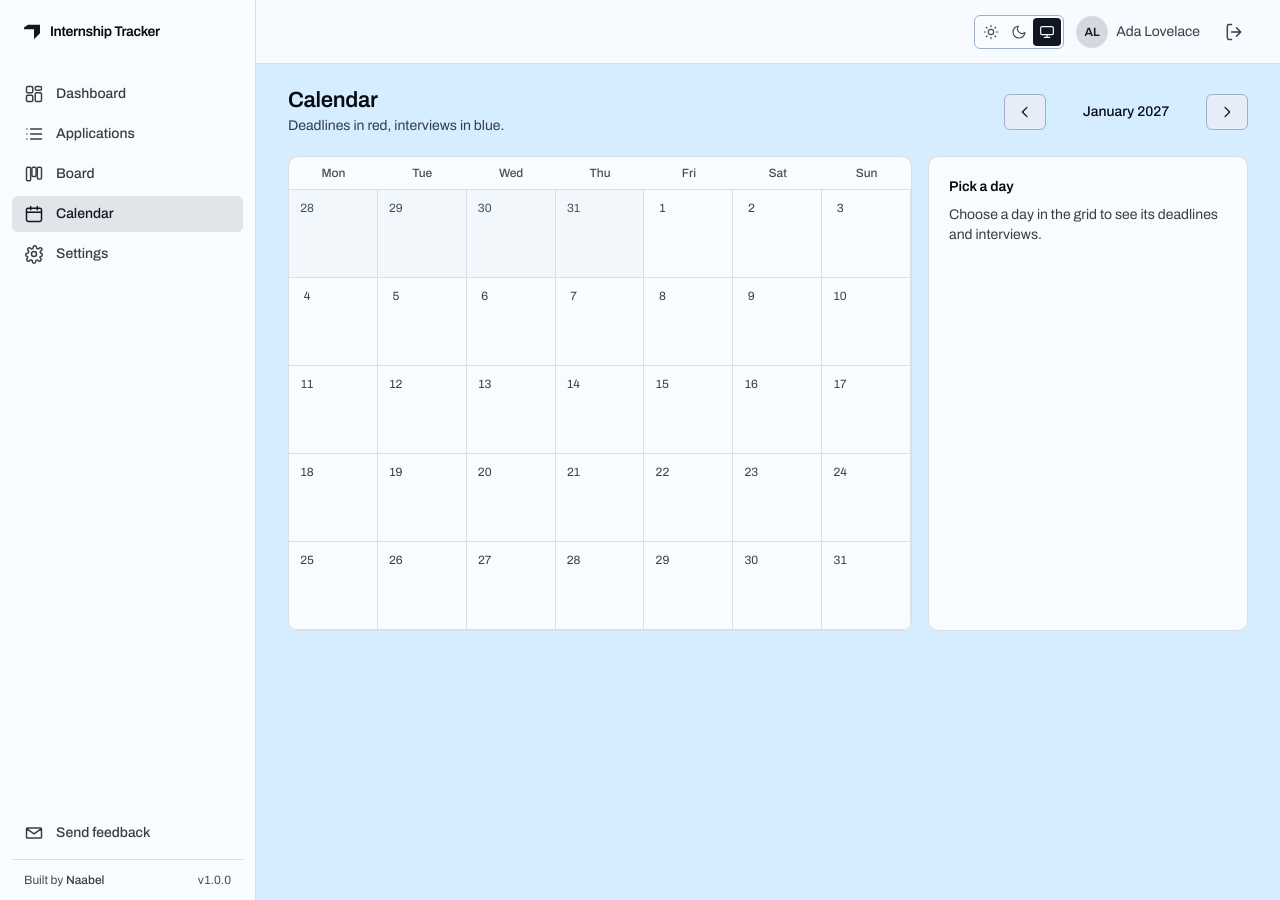
day panel heading › viewing 2027-01 and picking 28 December 2026 reads "Monday 28 December 2026"
The width and height of the screenshot is (1280, 900).
Click the 1st cell "28". click: (333, 234)
box: [289,190,378,278]
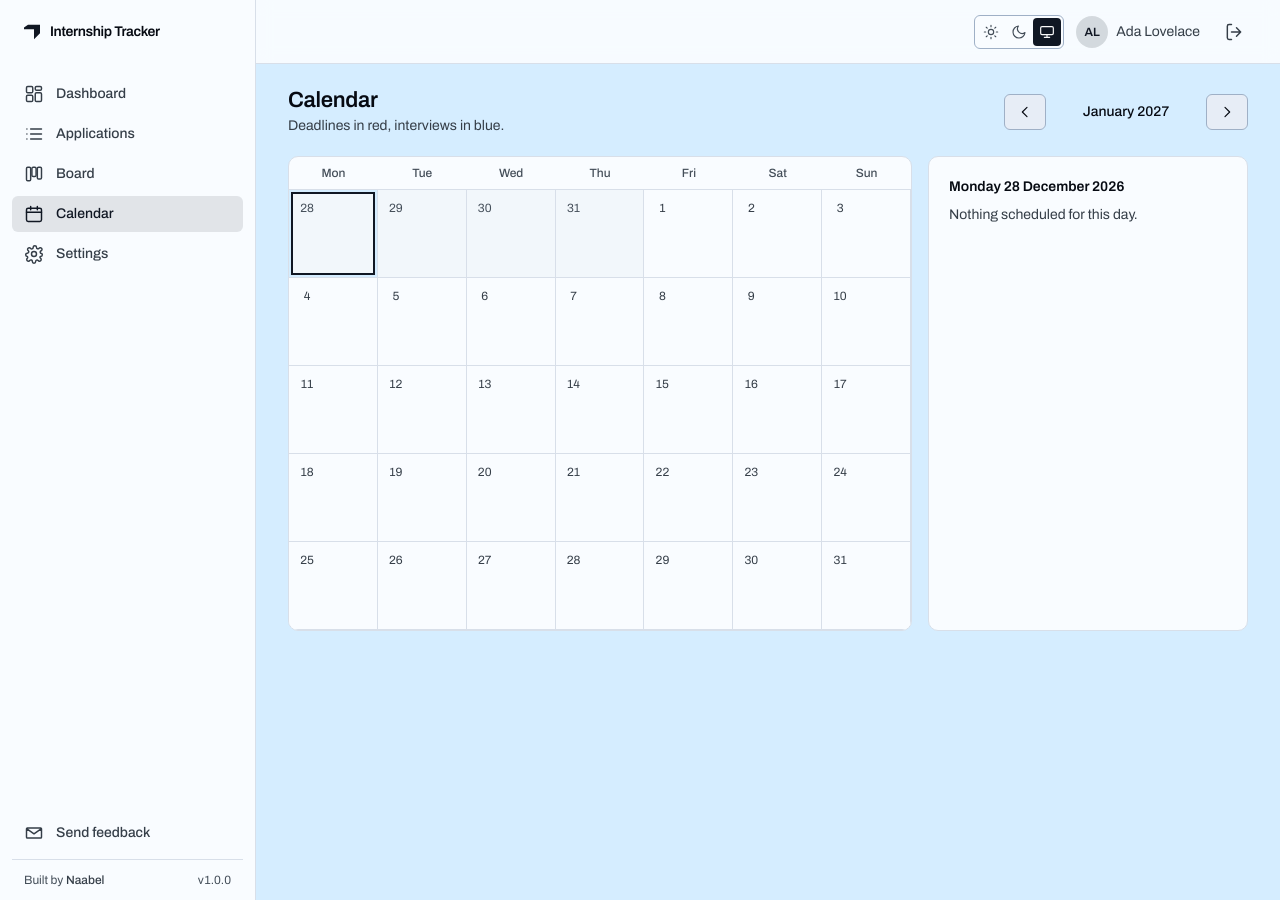
Expected: the heading "Monday 28 December 2026" is shown, [949,179,1124,194]
